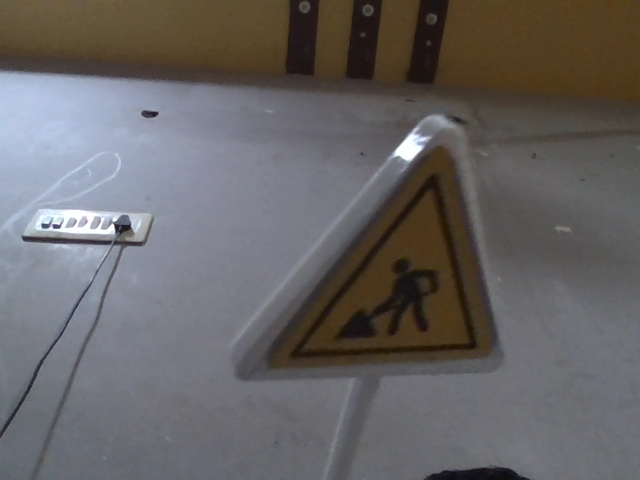workinprogress: (218, 97, 522, 399)
